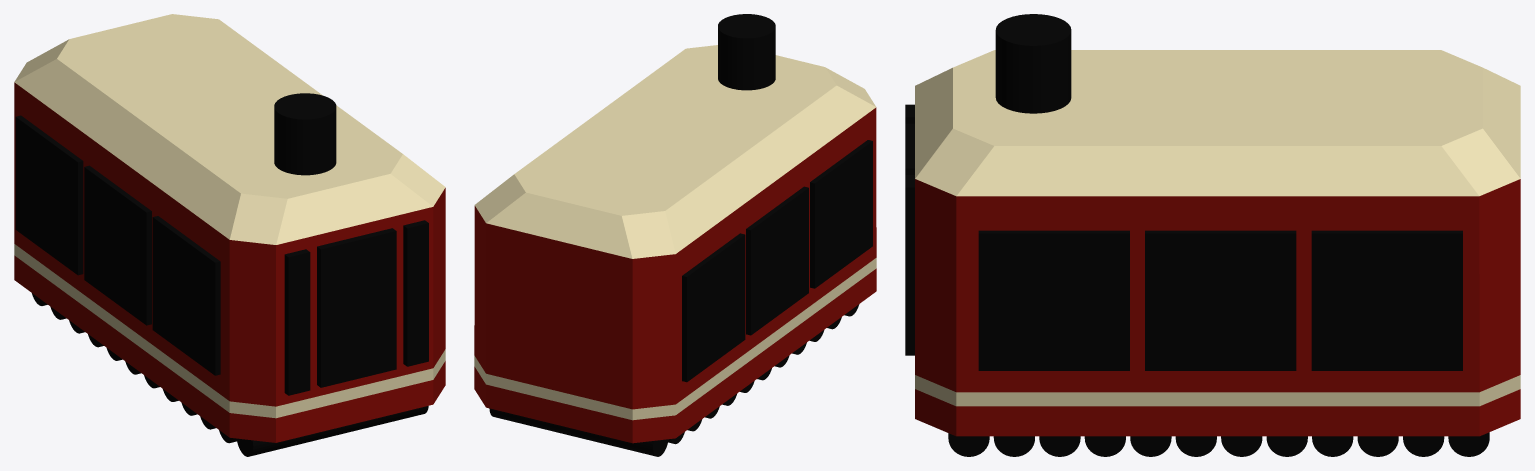
The model's file is train1.glb.
The picture shows the model from 3 angles, left to right: view 1: azimuth 30°, elevation 25°; view 2: azimuth 150°, elevation 25°; view 3: azimuth 270°, elevation 25°; orthographic projection. The views are drawn at different scales.
Visible parts, largest first — view 1: Body, Window, Front Window, Chimney, Wheel; view 2: Body, Window, Chimney, Wheel; view 3: Body, Window, Wheel, Chimney, Front Window.
Boxes of the visible parts, x1,y1,x2,y2 form: Body: (14,14,445,442); Window: (15,115,220,375); Front Window: (284,220,428,395); Chimney: (274,93,336,175); Wheel: (32,293,428,456); Body: (474,45,876,443); Window: (682,140,872,382); Chimney: (718,14,775,90); Wheel: (489,304,859,456); Body: (915,50,1520,436); Window: (978,230,1462,370); Wheel: (948,432,1489,456); Chimney: (995,14,1071,113); Front Window: (905,104,914,355).
Bounding box in the file's own units: 2.1 × 2.73 × 4.07.
